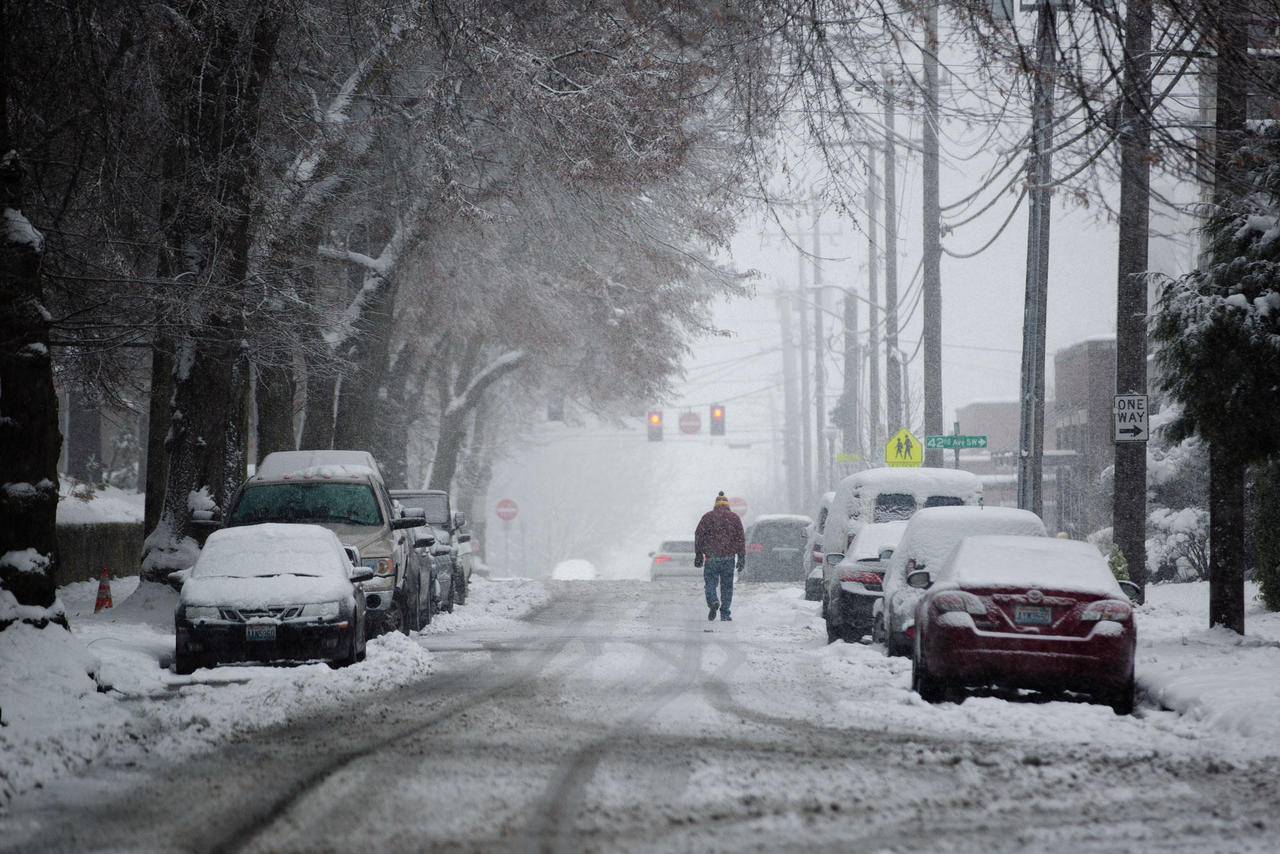car: (905, 529, 1143, 710), (211, 457, 419, 631), (158, 517, 370, 673), (826, 471, 1001, 642), (874, 504, 1053, 655), (826, 518, 907, 640), (401, 487, 463, 596), (745, 514, 813, 582), (648, 539, 698, 580)
person: (695, 492, 746, 622)
